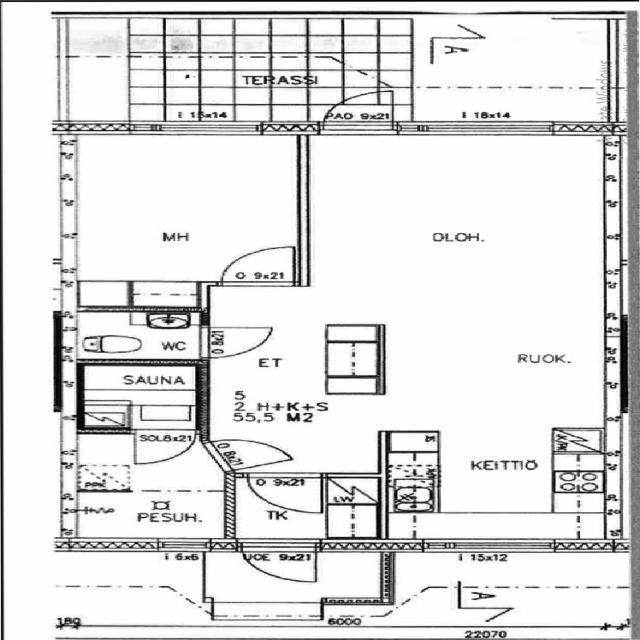door: (243, 538, 317, 588), (202, 431, 291, 472), (323, 87, 393, 135), (248, 472, 323, 514), (223, 245, 295, 286), (200, 327, 270, 358), (135, 429, 196, 464)
